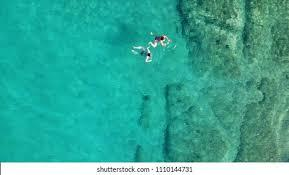Person: (129, 44, 153, 65), (148, 32, 172, 49)
